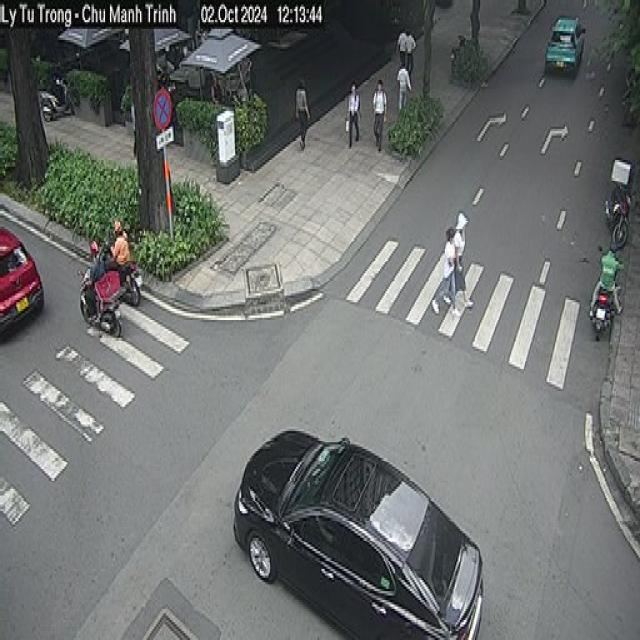car: (232, 427, 482, 638), (0, 224, 44, 336), (544, 14, 585, 76)
motorcycle: (74, 278, 125, 332), (588, 278, 622, 340), (100, 239, 140, 289), (34, 74, 66, 118), (612, 193, 634, 253)
person: (588, 240, 624, 316), (442, 220, 466, 312), (106, 218, 132, 289), (75, 243, 104, 295), (458, 206, 472, 310), (295, 75, 310, 149), (372, 78, 386, 151), (346, 80, 360, 147), (396, 60, 412, 111), (405, 26, 416, 76)
